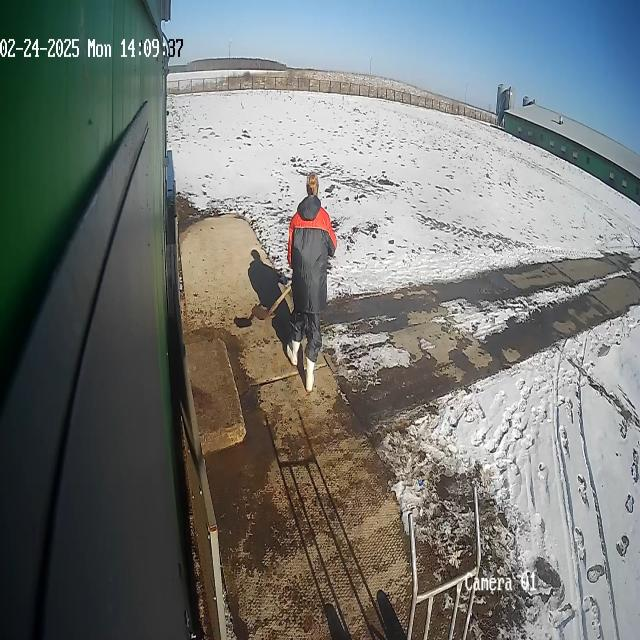Red uniform: (285, 194, 338, 367)
